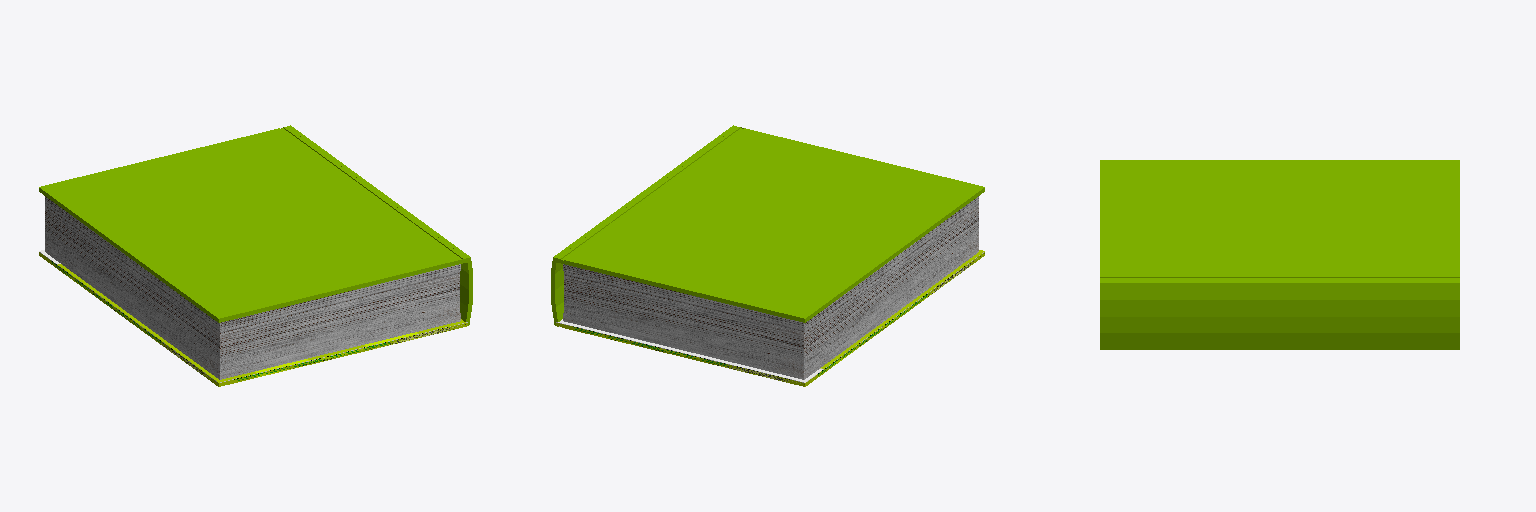
The picture shows the model from 3 angles: view 1: azimuth 30°, elevation 25°; view 2: azimuth 150°, elevation 25°; view 3: azimuth 270°, elevation 25°; orthographic projection.
Visible parts, largest first — view 1: Box001; view 2: Box001; view 3: Box001.
Boxes of the visible parts, box(x1,y1,x2,y2) form: Box001: box(39, 125, 472, 386); Box001: box(551, 125, 984, 386); Box001: box(1100, 160, 1459, 349).
Size of the model in its own units: 20 by 5.13 by 24.5.
Materials: 3 (2 with a texture image).